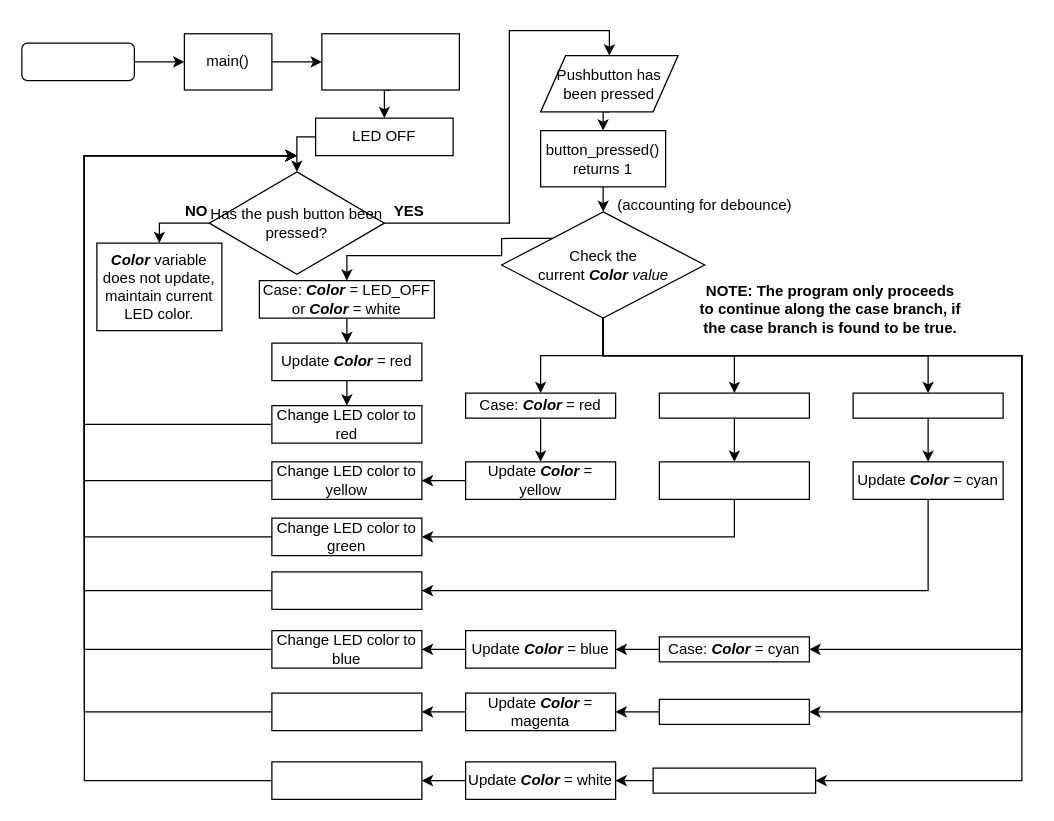
Image size: 1054x821. Some labels were removed from this diagram. Here are the shapes that lost their labels. From the top down, the centre of each, then its label:
(x=77, y=61): START
(x=390, y=61): Color = LED_OFF
(x=733, y=405): Case: Color = yellow
(x=927, y=405): Case: Color = green
(x=733, y=480): Update Color = green
(x=346, y=590): Change LED color to cyan
(x=346, y=711): Change LED color to magenta
(x=733, y=711): Case: Color = blue
(x=346, y=780): Change LED color to white
(x=734, y=780): Case: Color = magenta
